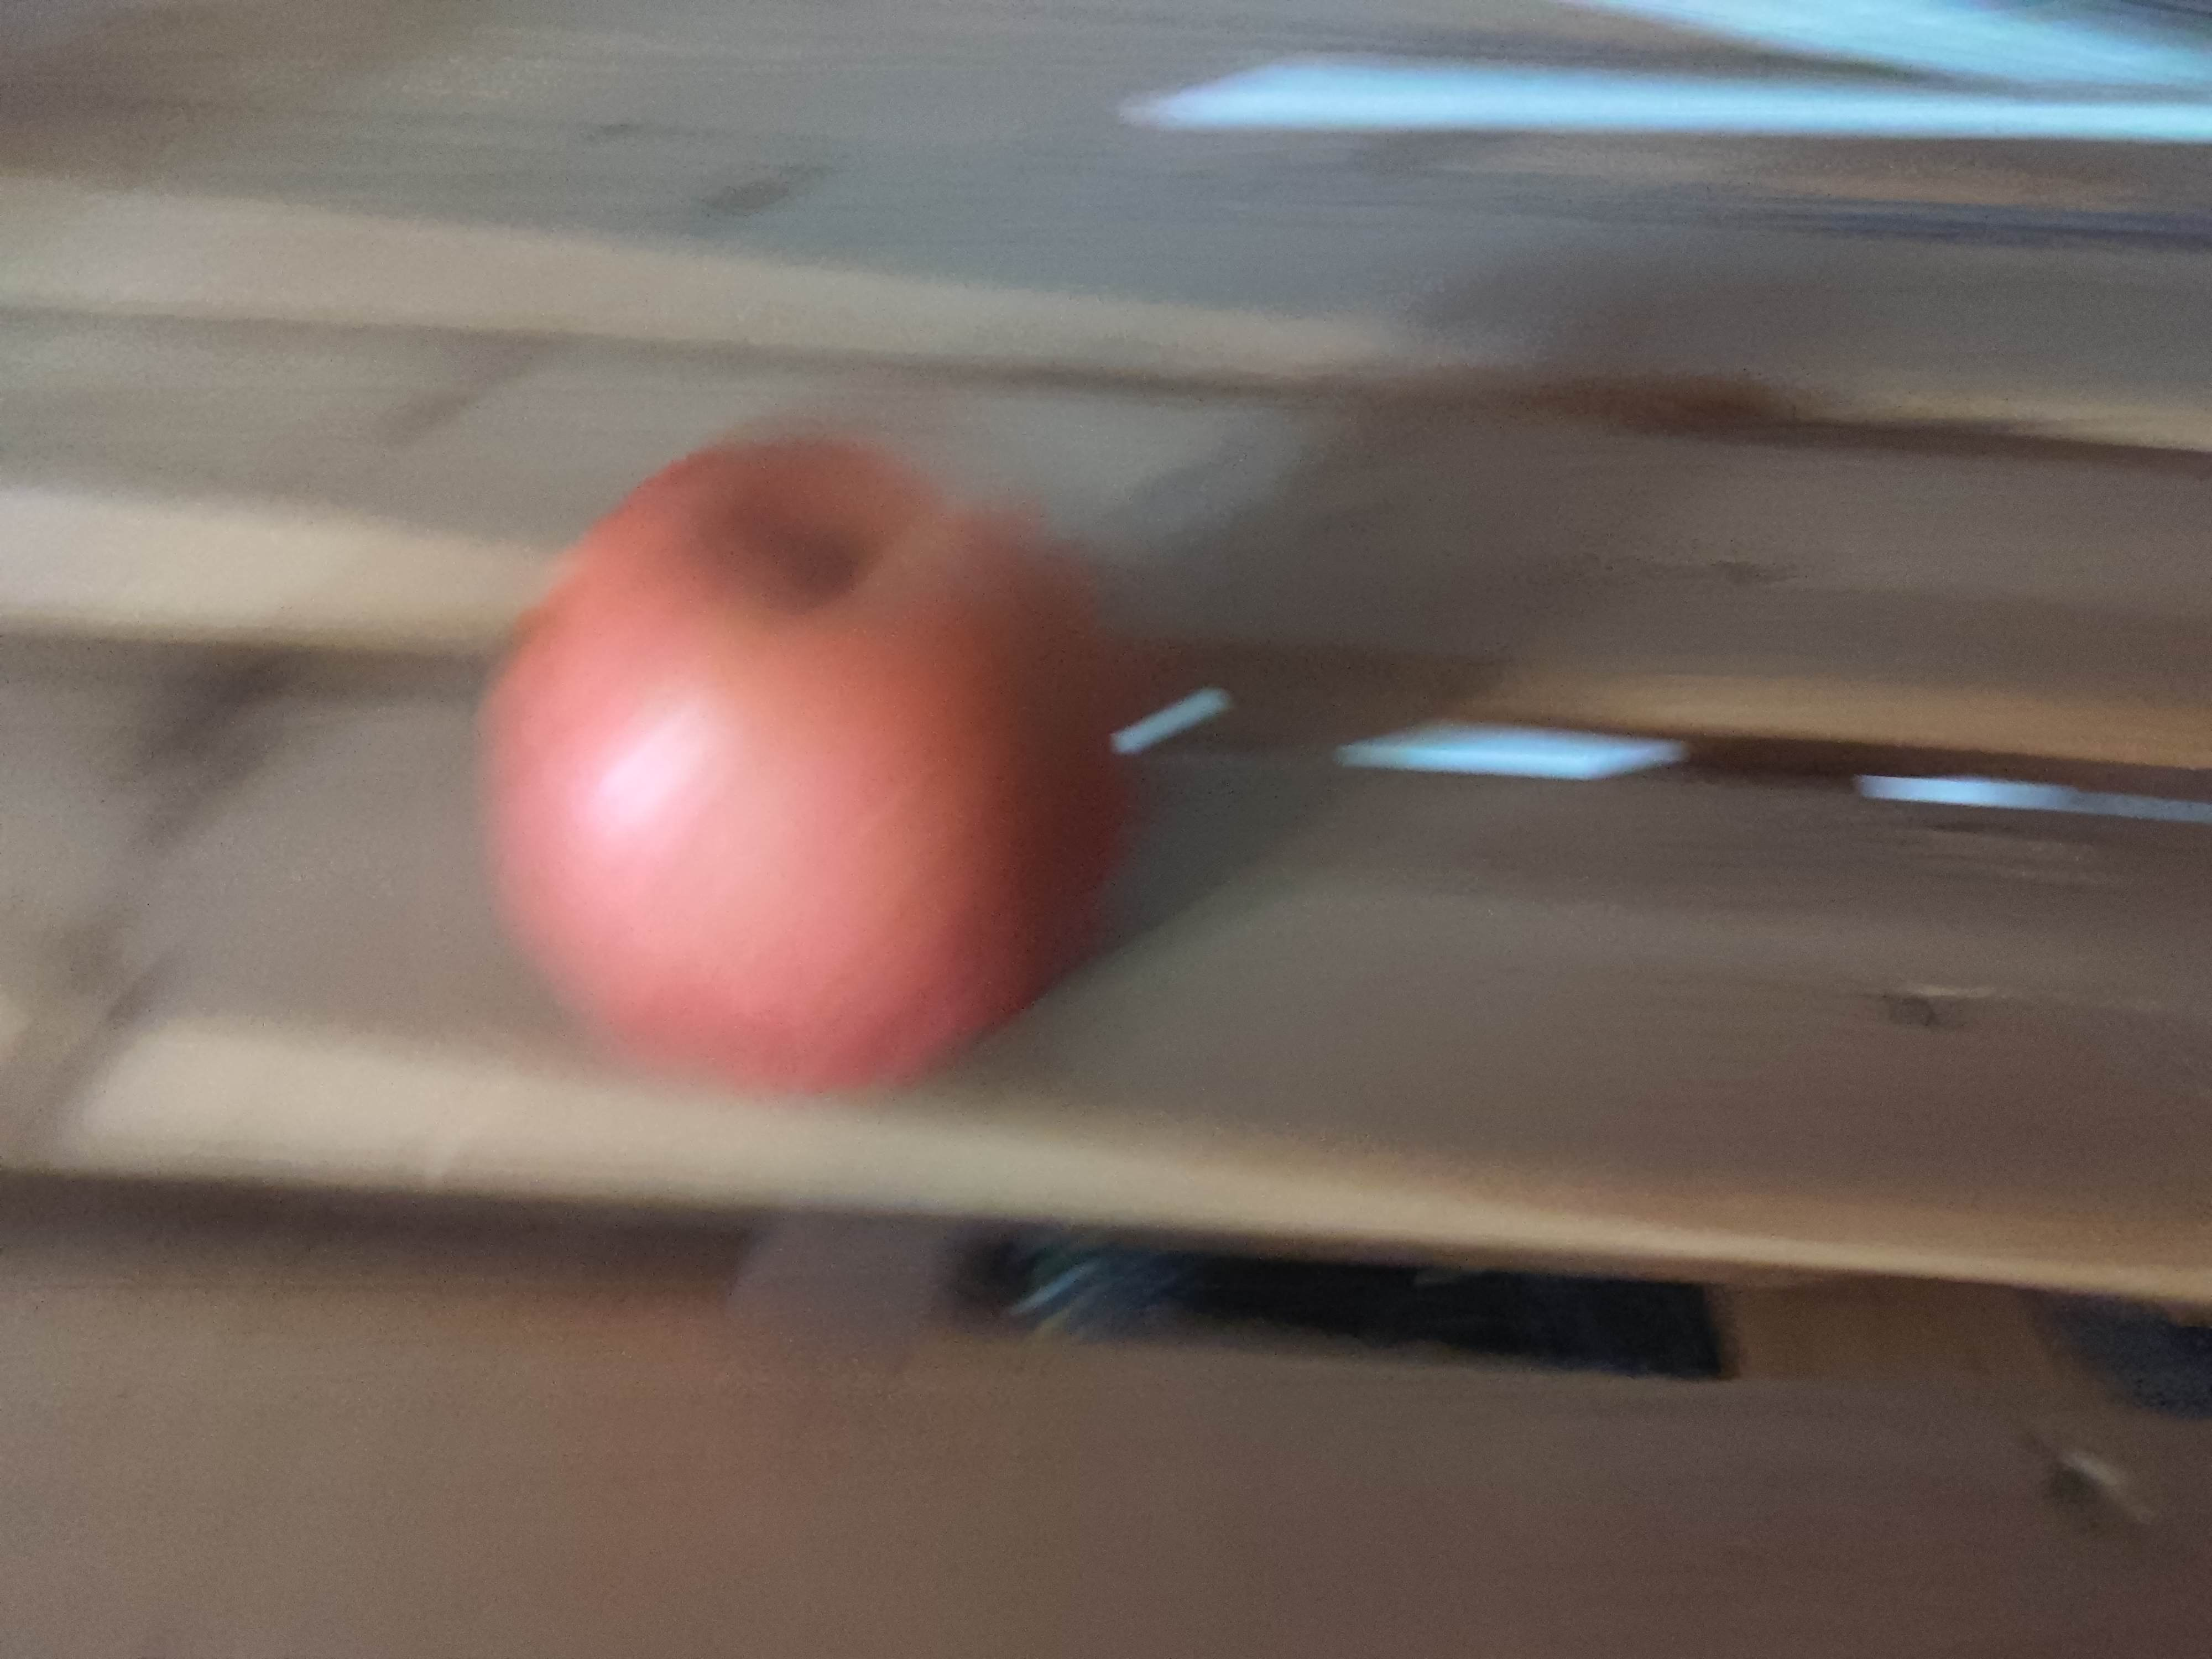apple: (465, 432, 1150, 1105)
